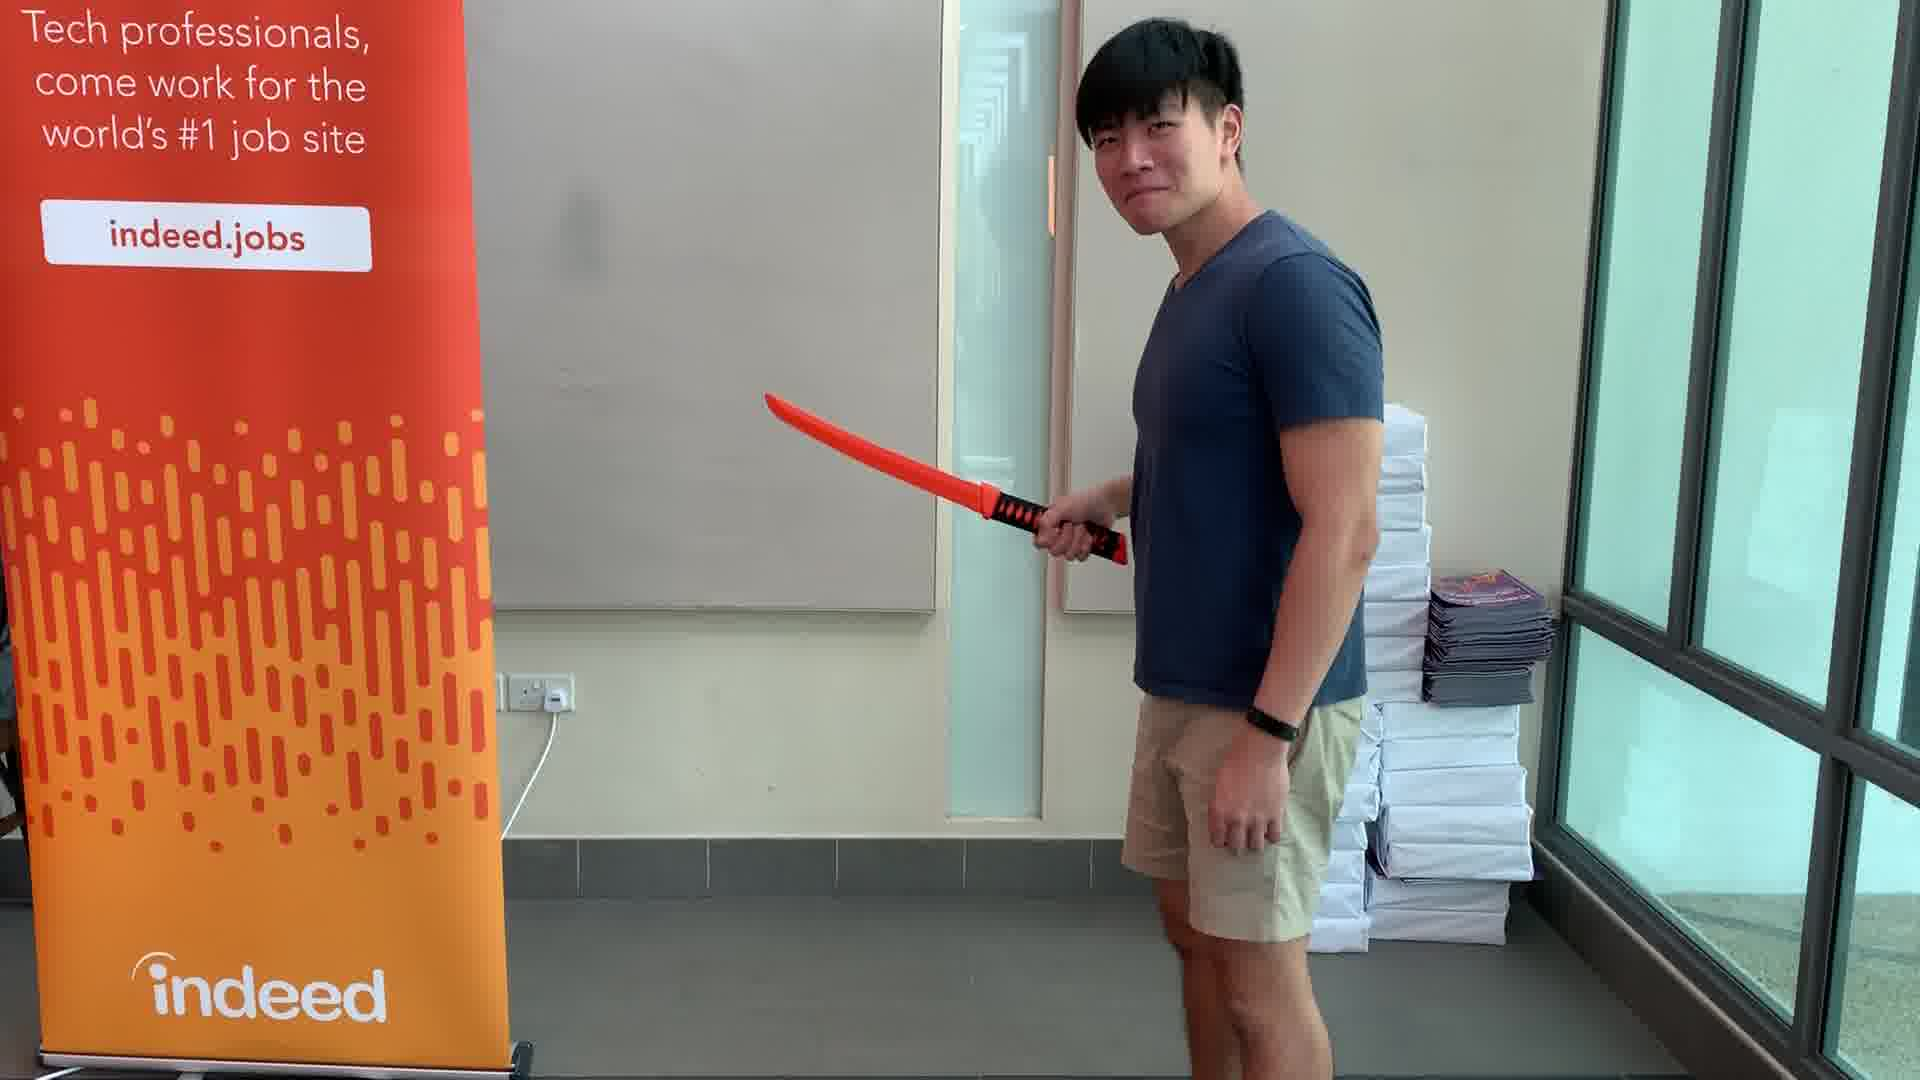knife: (757, 382, 1139, 574)
